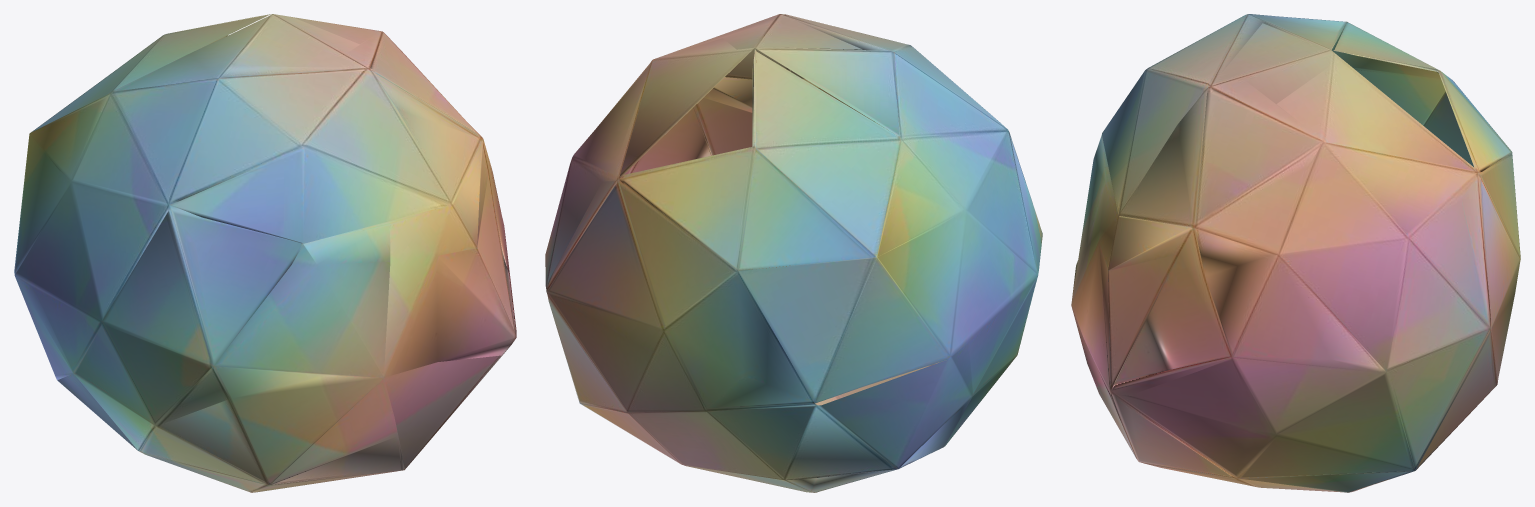
3 renders of one model, left to right at view 1: azimuth 30°, elevation 25°; view 2: azimuth 150°, elevation 25°; view 3: azimuth 270°, elevation 25°, orthographic.
Visible parts, largest first — view 1: tripo_node_ce88b842-1b02-4865-8fdb-ef7edccc666f; view 2: tripo_node_ce88b842-1b02-4865-8fdb-ef7edccc666f; view 3: tripo_node_ce88b842-1b02-4865-8fdb-ef7edccc666f.
Boxes of the visible parts, x1,y1,x2,y2 form: tripo_node_ce88b842-1b02-4865-8fdb-ef7edccc666f: [14, 14, 516, 492]; tripo_node_ce88b842-1b02-4865-8fdb-ef7edccc666f: [545, 14, 1042, 492]; tripo_node_ce88b842-1b02-4865-8fdb-ef7edccc666f: [1071, 14, 1520, 492].
Bounding box in the file's own units: 0.998 × 0.9941 × 0.9512.
Materials: 1 (1 with a texture image).
